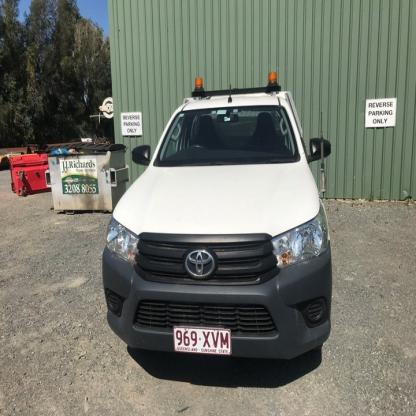light_vehicle: (96, 66, 334, 365)
